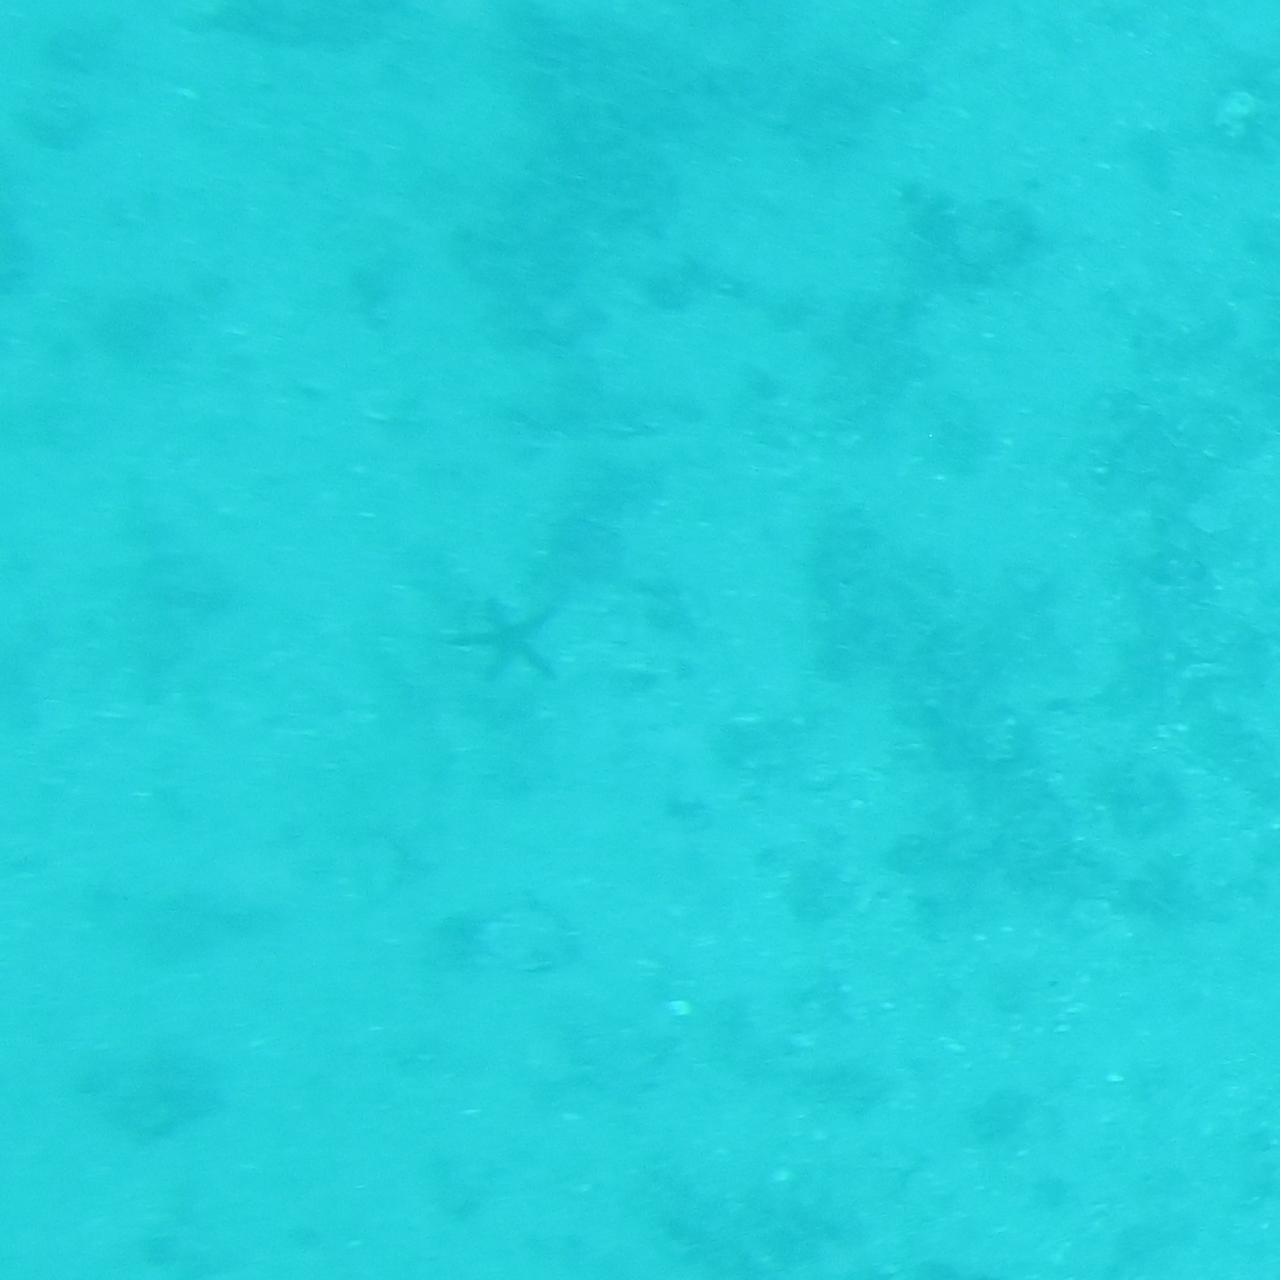Asteroidea: (449, 568, 590, 712)
